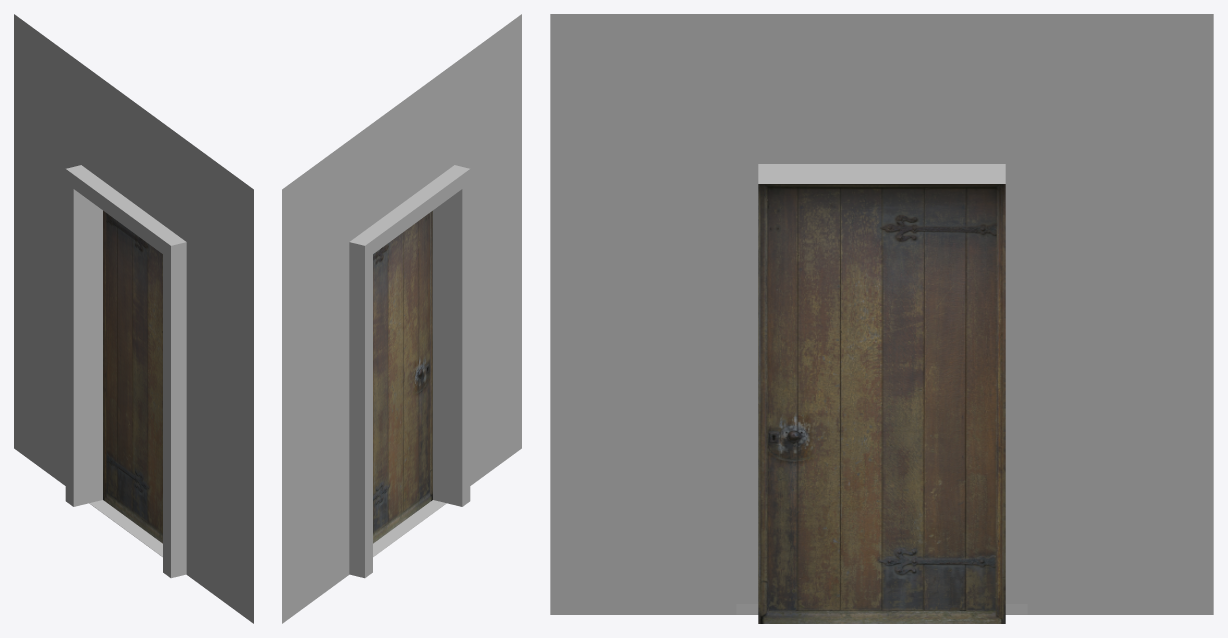
The model's file is House 2 Wall Door.FBX.
The picture shows the model from 3 angles, left to right: view 1: azimuth 30°, elevation 25°; view 2: azimuth 150°, elevation 25°; view 3: azimuth 270°, elevation 25°; orthographic projection. The views are drawn at different scales.
Parts seen in each view (by area): view 1: Plane03; view 2: Plane03; view 3: Plane03.
Part boxes in pixels (x1,y1,x2,y2): Plane03: [14, 14, 253, 623]; Plane03: [282, 14, 521, 623]; Plane03: [550, 14, 1213, 623].
Bounding box in the file's own units: 16.73 × 236 × 236.
